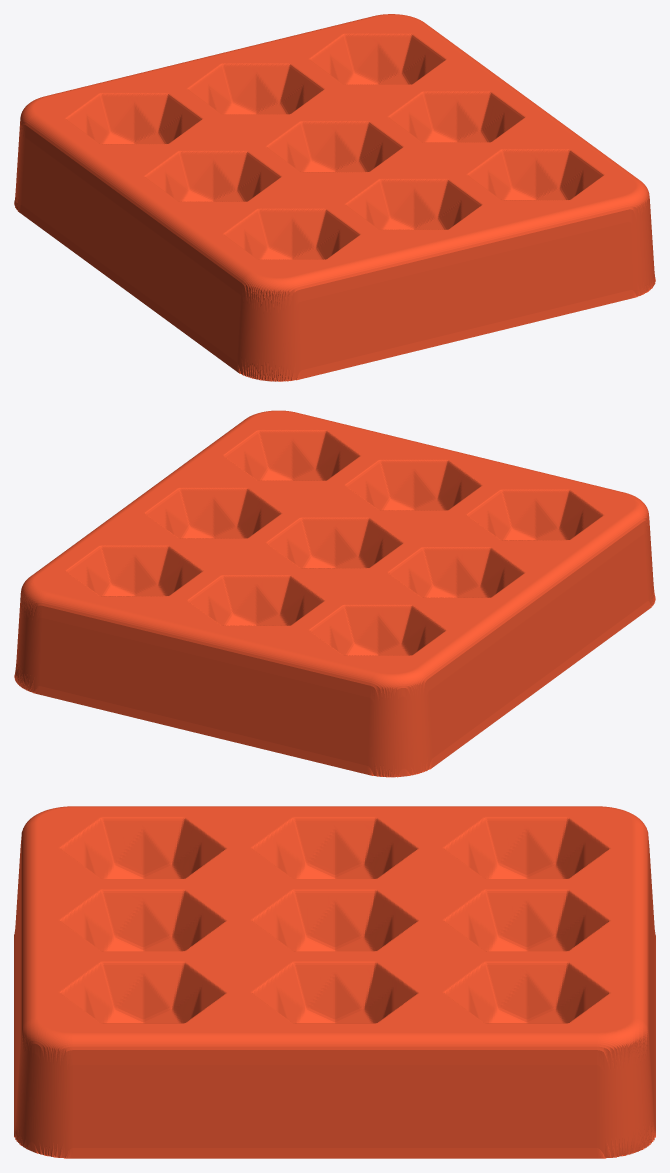
Rendered from mold.glb.
The picture shows the model from 3 angles, top to bottom: view 1: azimuth 30°, elevation 25°; view 2: azimuth 150°, elevation 25°; view 3: azimuth 270°, elevation 25°; orthographic projection. The views are drawn at different scales.
Parts seen in each view (by area): view 1: geometry_0; view 2: geometry_0; view 3: geometry_0.
Boxes of the visible parts, x1,y1,x2,y2 form: geometry_0: [14, 14, 655, 381]; geometry_0: [14, 410, 655, 777]; geometry_0: [14, 806, 655, 1158].
Size of the model in its own units: 0.0888 by 0.0196 by 0.0984.
